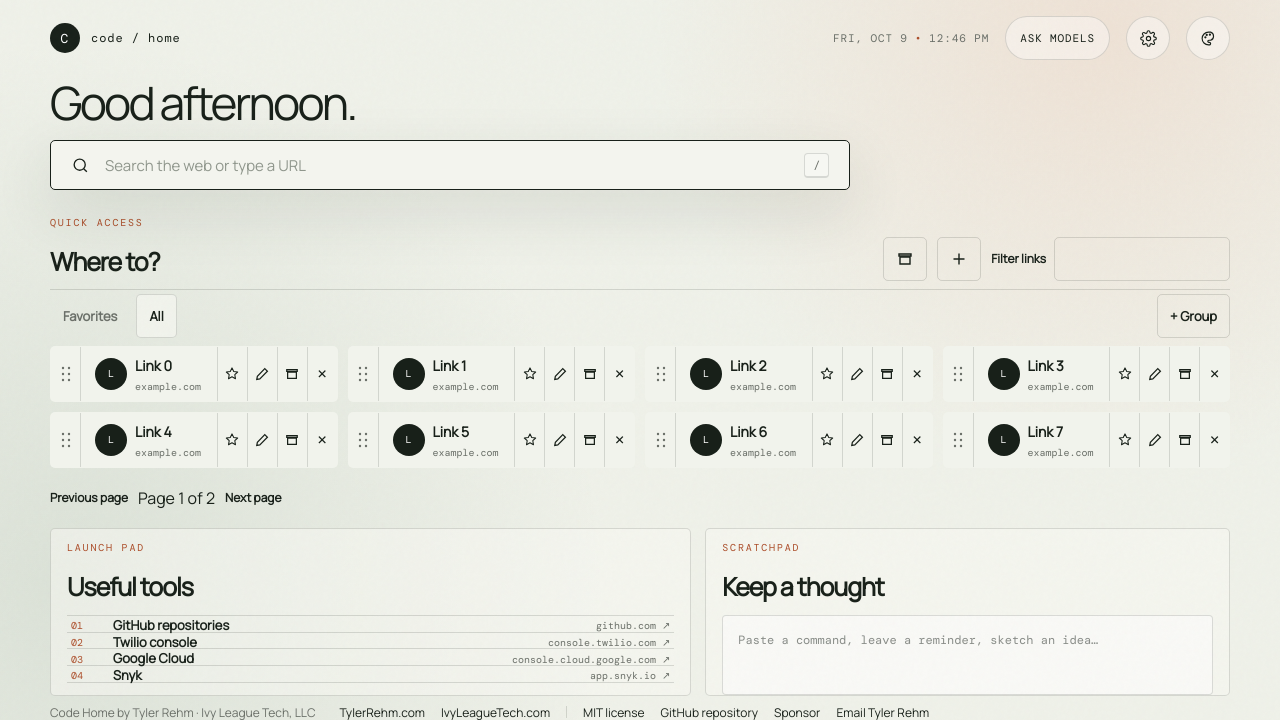
it: homepage › pages more than 8 links and omits the pager at 8
Expected: the text "Link 7" is shown, [1028, 422, 1063, 441]
Expected: the text "Link 8" is not shown
What coordinates should you click on to do the following:
click the button "Next page"
I would click on:
 (253, 498)
Its box is [225, 476, 282, 520].
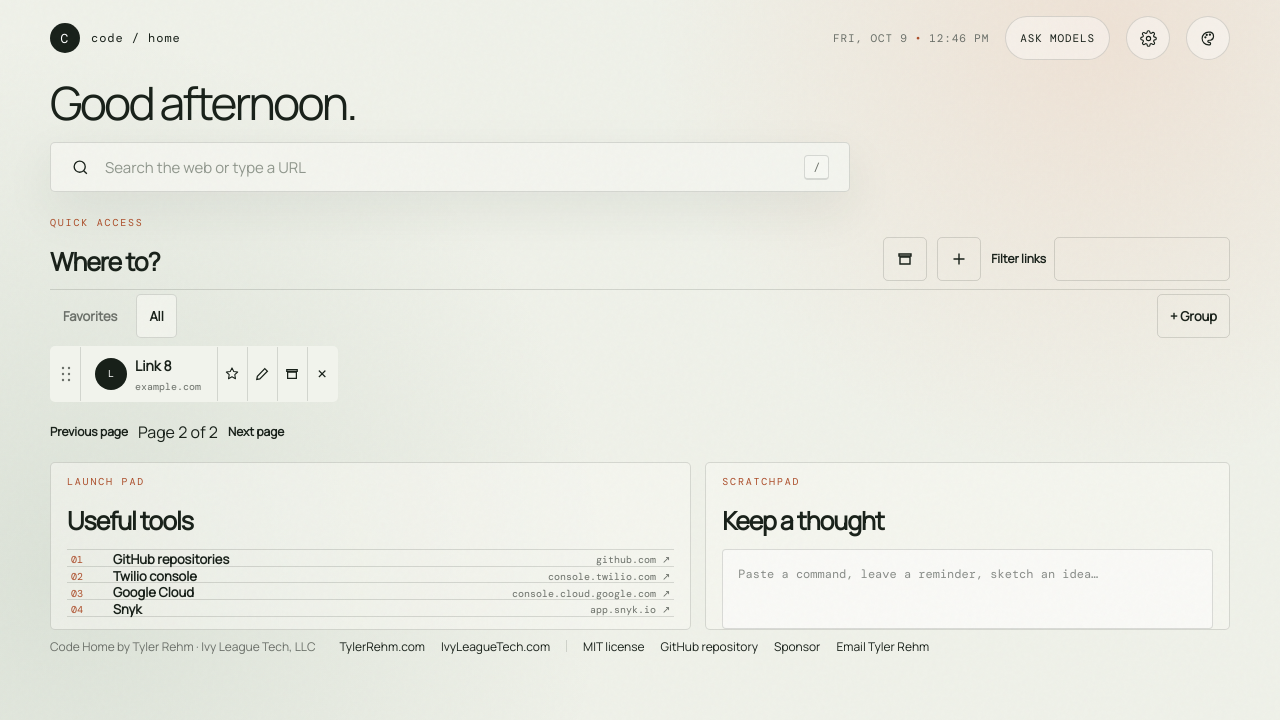
Result: the text "Link 8" is shown at [135, 356, 172, 375]
Result: the text "Page 2 of 2" is shown at [138, 420, 218, 444]
